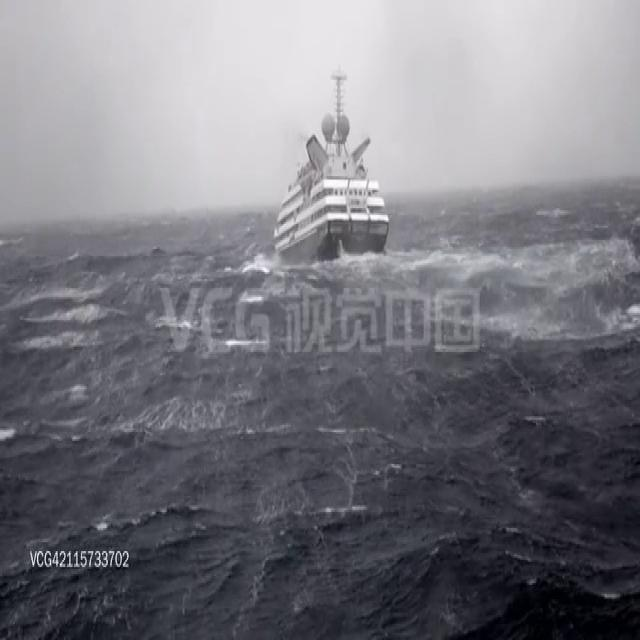passenger ship: (268, 81, 382, 260)
